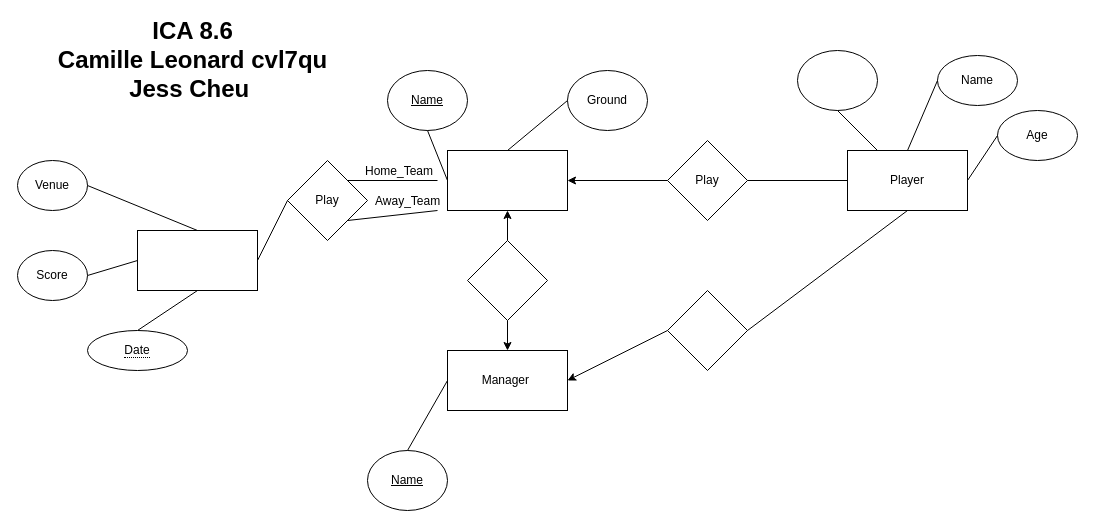
The diagram is 1095 pixels wide and 528 high, and some of its shapes have lost their labels. Each missing label, with the centre of its shape:
Buys: the point at 707,330
Club: the point at 507,180
Manage: the point at 507,280
Matches: the point at 197,260
Registration Number: the point at 837,80
